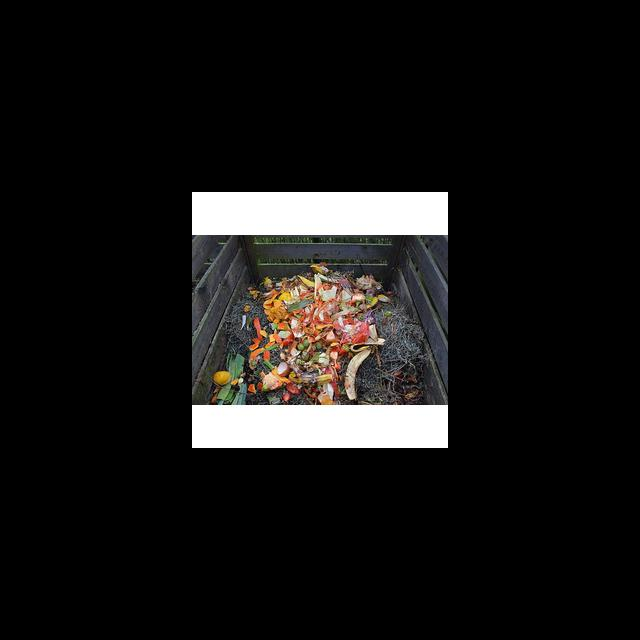food_waste: (252, 267, 376, 404), (215, 352, 248, 405)
